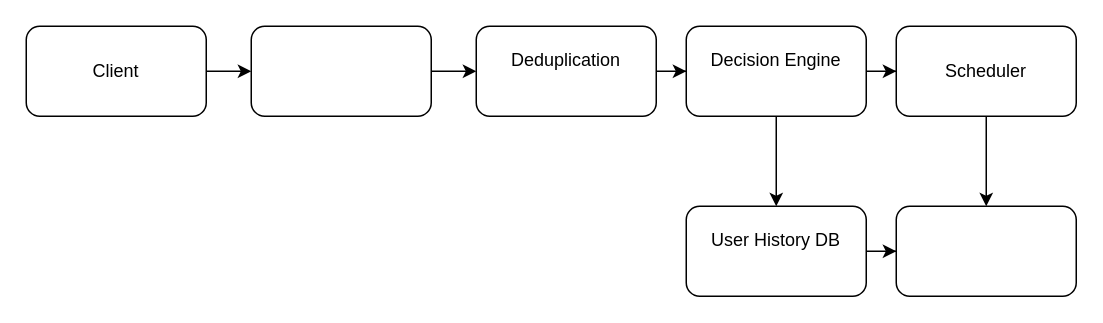
The diagram is 1103 pixels wide and 323 high, and some of its shapes have lost their labels. Each missing label, with the centre of its shape:
"API Gateway" goes at pixel 340 70.
"Audit Log" goes at pixel 985 250.
